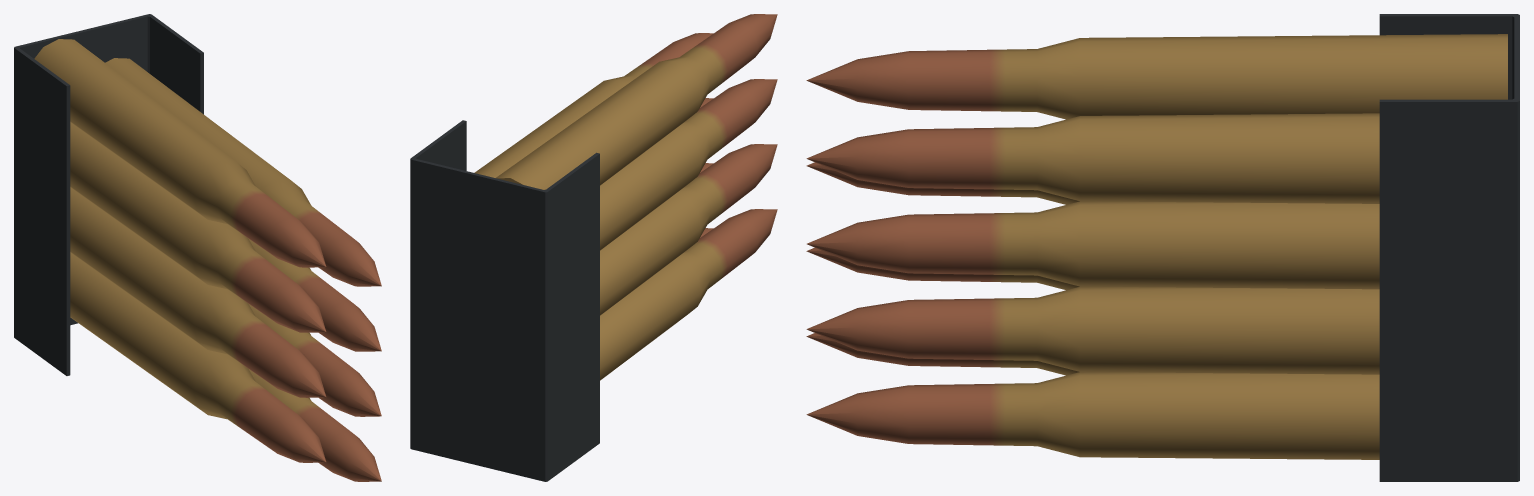
The model's file is SM_WP_M1Garand_Clip.fbx.
3 views of the same model, side by side, from view 1: azimuth 30°, elevation 25°; view 2: azimuth 150°, elevation 25°; view 3: azimuth 270°, elevation 25° (orthographic). The views are drawn at different scales.
Visible parts, largest first — view 1: SM_WP_M1Garand_Clip; view 2: SM_WP_M1Garand_Clip; view 3: SM_WP_M1Garand_Clip.
Boxes of the visible parts, box(x1,y1,x2,y2) form: SM_WP_M1Garand_Clip: box(14, 14, 381, 481); SM_WP_M1Garand_Clip: box(410, 14, 777, 481); SM_WP_M1Garand_Clip: box(806, 14, 1519, 481).
Size of the model in its own units: 0.0242 by 0.0493 by 0.0832.
